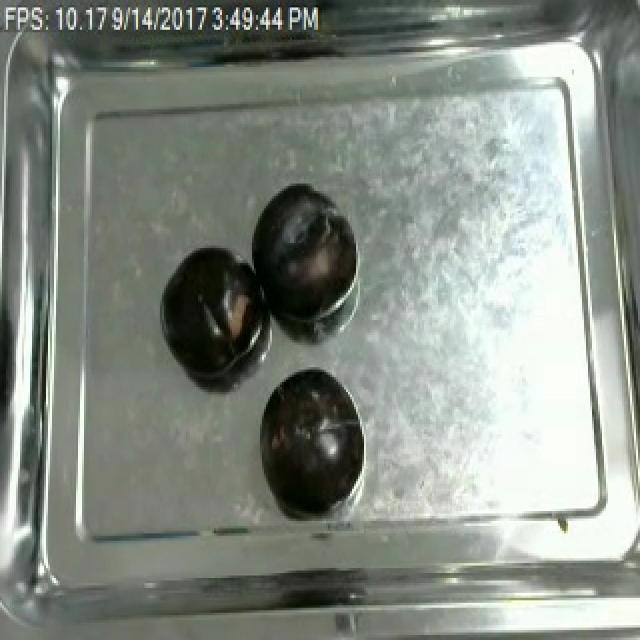Fruit: (256, 362, 362, 519), (246, 178, 352, 328), (158, 241, 264, 382)
